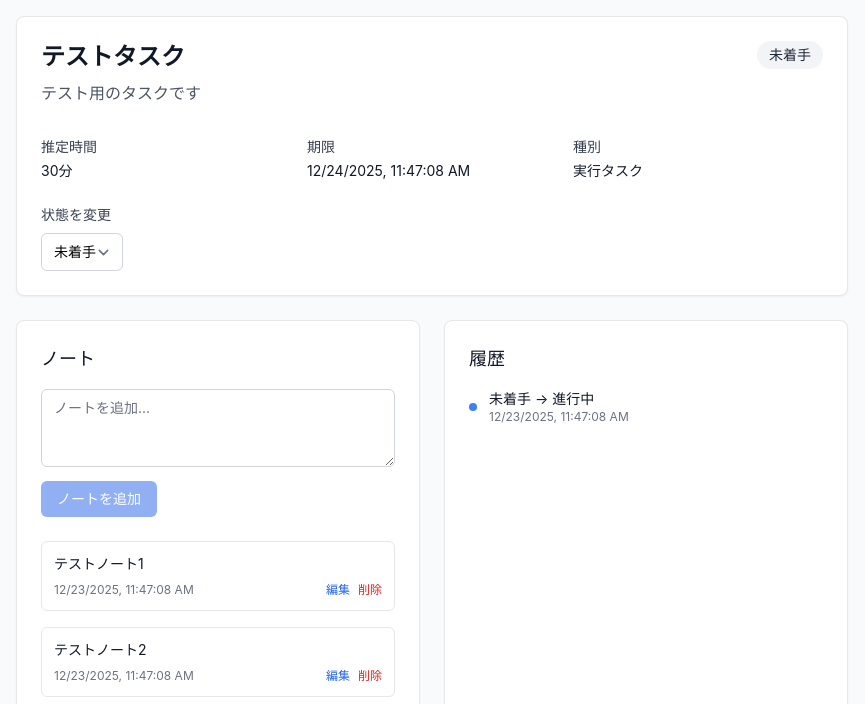
Test: TaskDetailPage › ノート編集のキャンセルが動作する
This screenshot has width=865, height=704.
Expected: the text "テストノート1" is shown, [54, 555, 144, 572]
Note: 編集ボタンをクリック
What coordinates should you click on to do the following:
click the button "編集" below "テストノート1"
I would click on:
 (338, 590)
Its box is [326, 582, 350, 598].
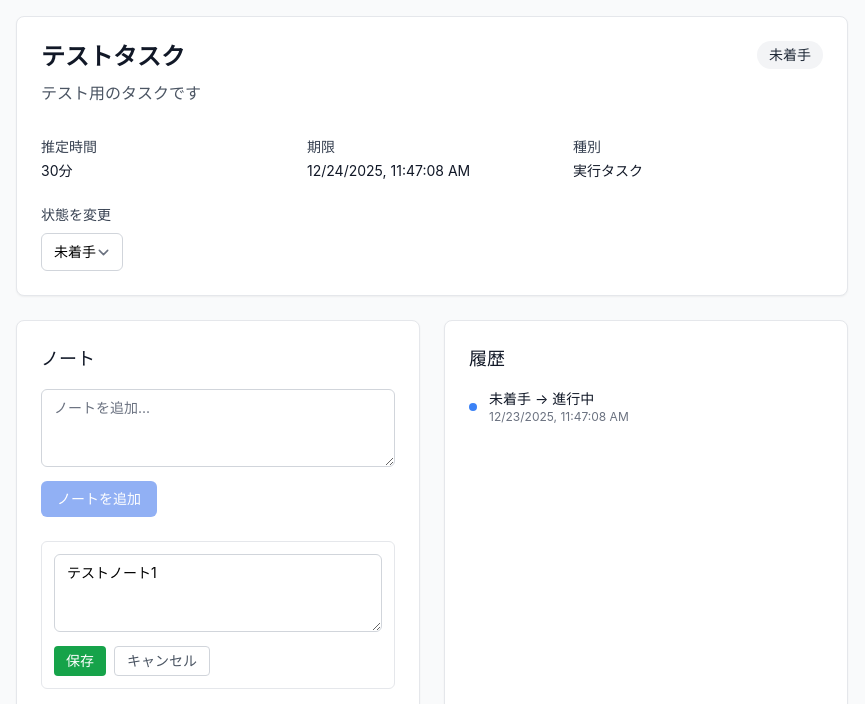
Expected: the text box showing "テストノート1" is shown, [54, 554, 382, 632]
Note: キャンセルボタンをクリック
What coordinates should you click on to do the following:
click the button "キャンセル"
I would click on:
 (162, 661)
Its box is [114, 646, 210, 676].
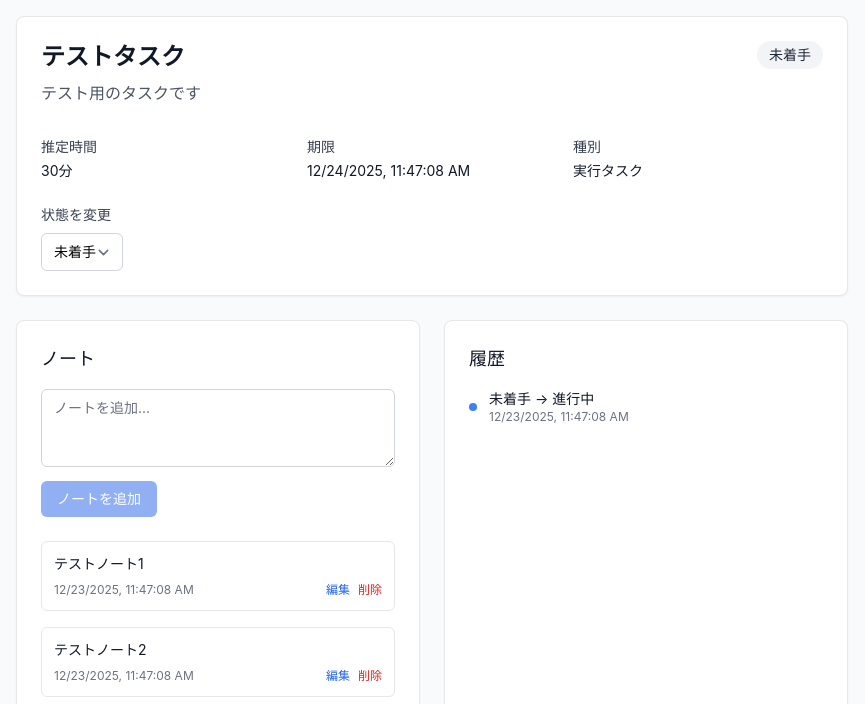
Expected: the text "テストノート1" is shown, [54, 555, 144, 572]
